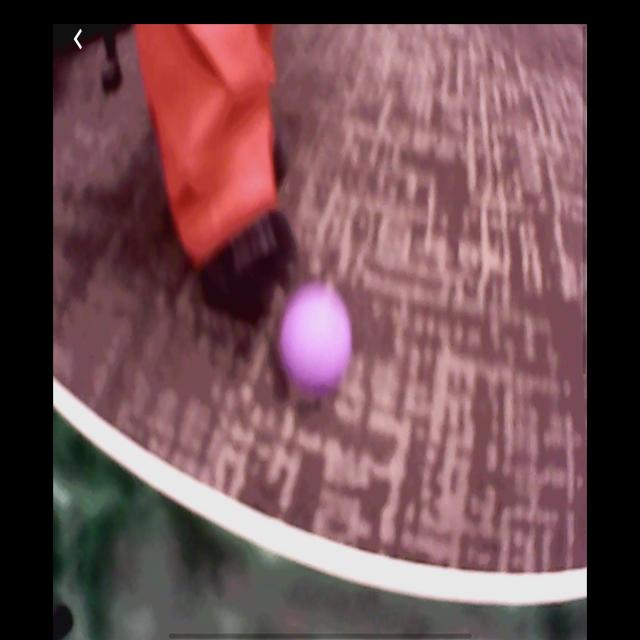ball: (279, 286, 355, 399)
